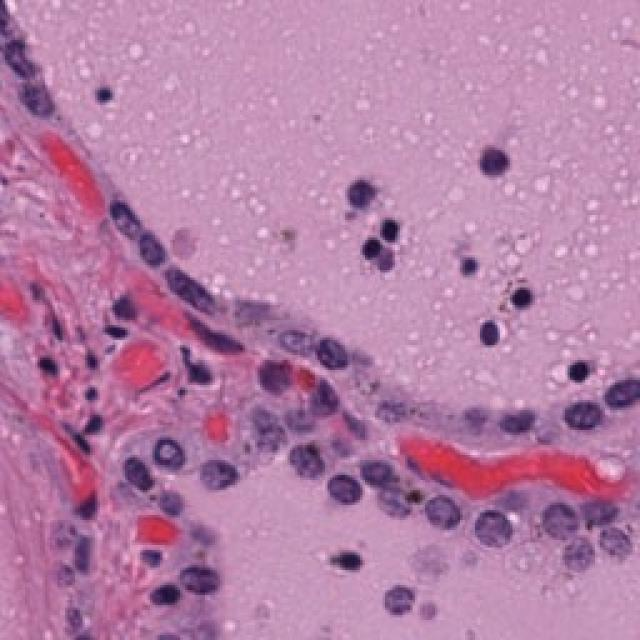normal: (5, 58, 83, 146), (289, 320, 376, 397), (556, 384, 618, 456), (90, 193, 162, 250), (589, 353, 640, 427), (418, 478, 472, 545), (462, 489, 518, 553), (175, 559, 230, 617), (186, 443, 238, 502), (529, 489, 579, 547), (149, 424, 197, 484), (326, 466, 368, 523), (282, 442, 335, 481)
